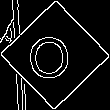O_N: (33, 29, 77, 81)
